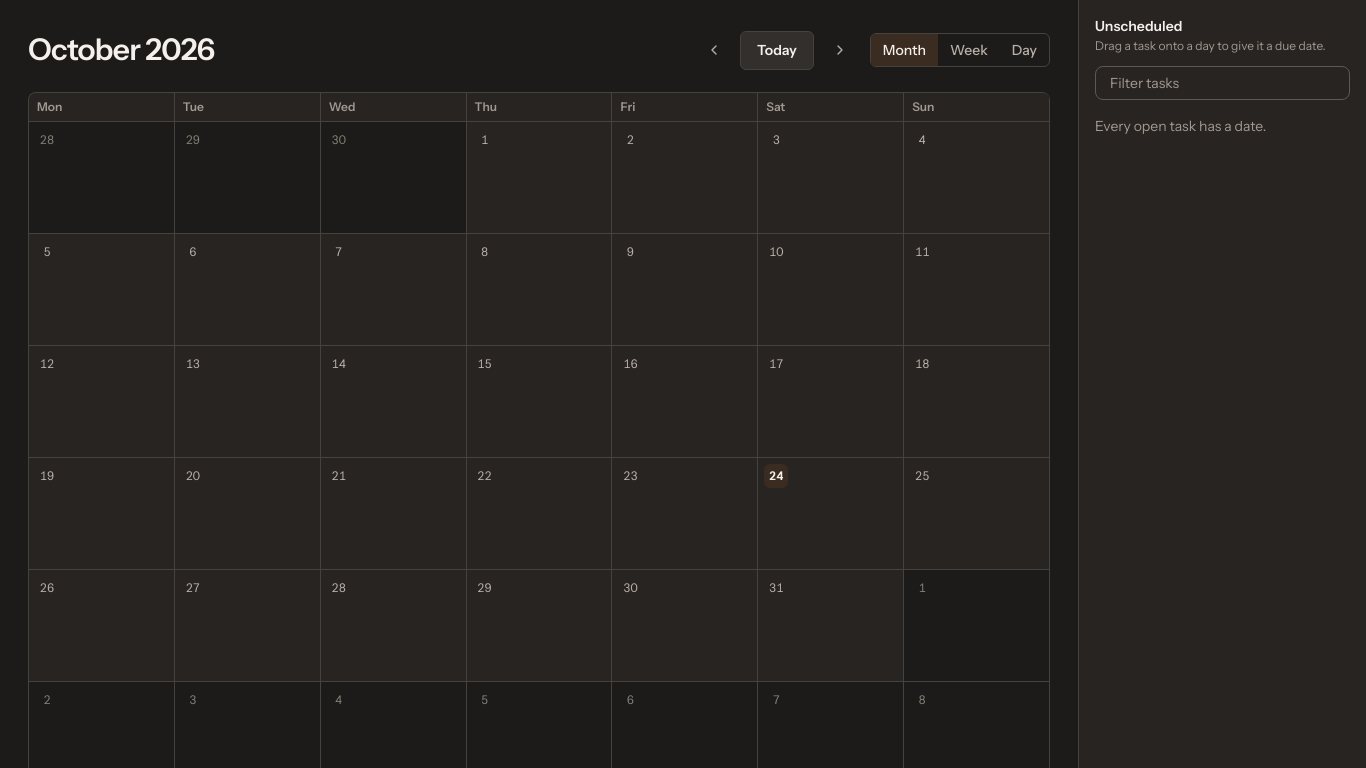
Test: CalendarView: month › crosses the year
Check: the heading "October 2026" is shown, box top-left (28, 32), bottom-right (214, 68)
Click the button named "Next month" at (840, 50), box top-left (818, 28), bottom-right (862, 72)
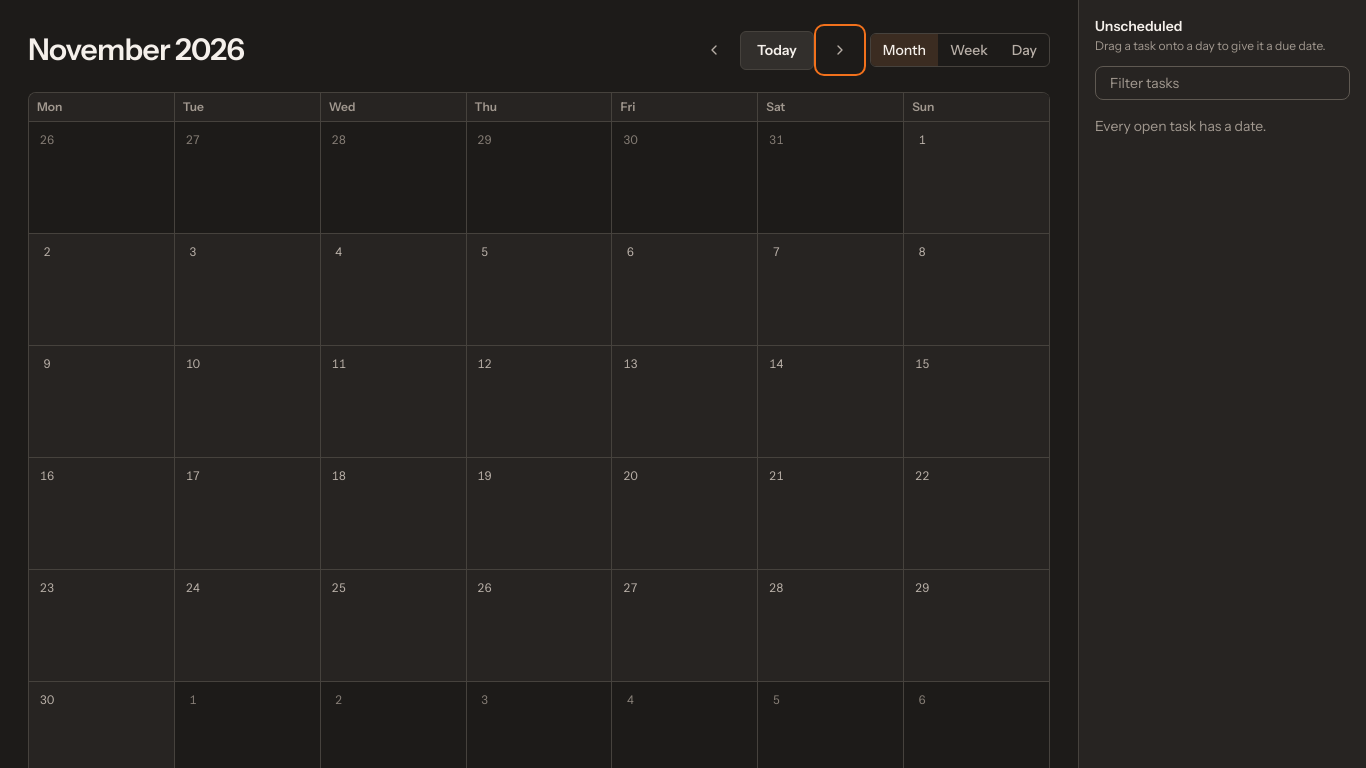
Click the button named "Next month" at (840, 50), box top-left (818, 28), bottom-right (862, 72)
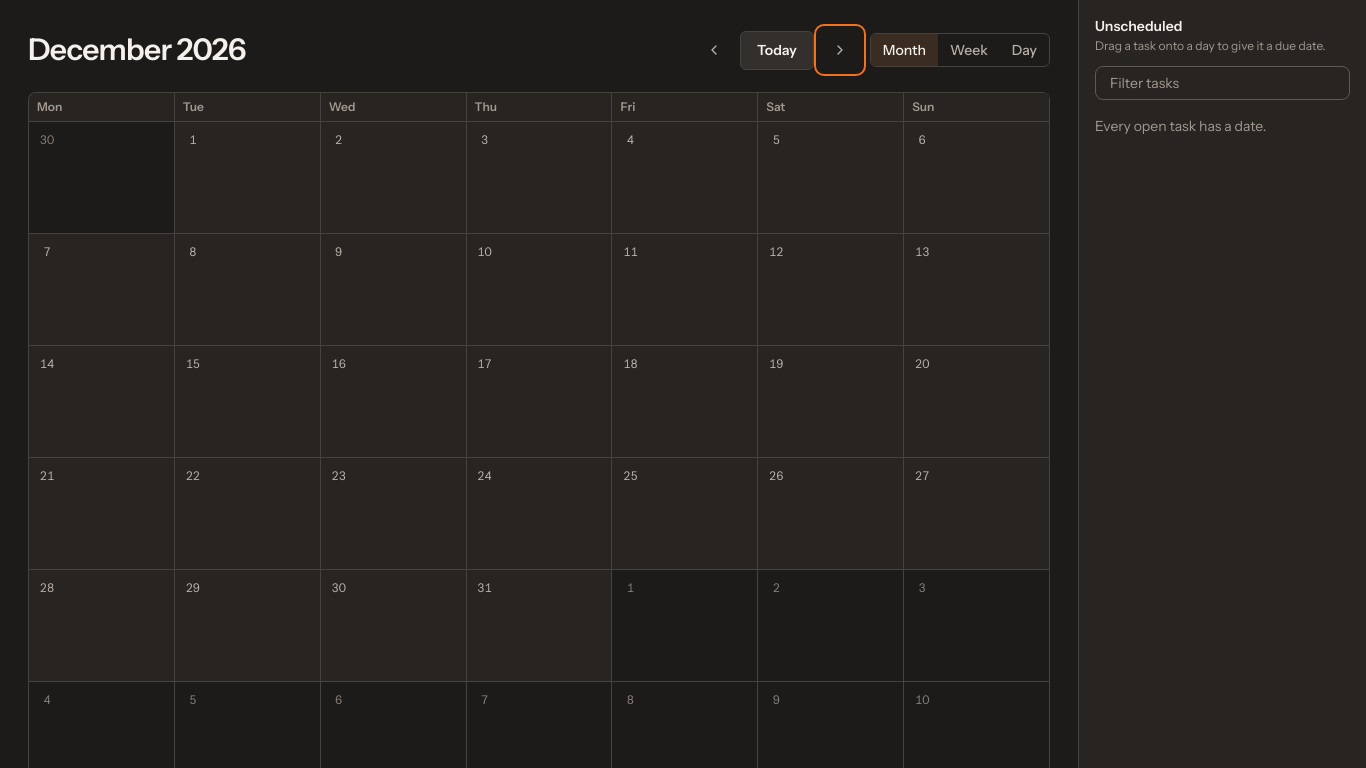
Check: the heading "December 2026" is shown, box top-left (28, 32), bottom-right (246, 68)
Click the button named "Next month" at (840, 50), box top-left (818, 28), bottom-right (862, 72)
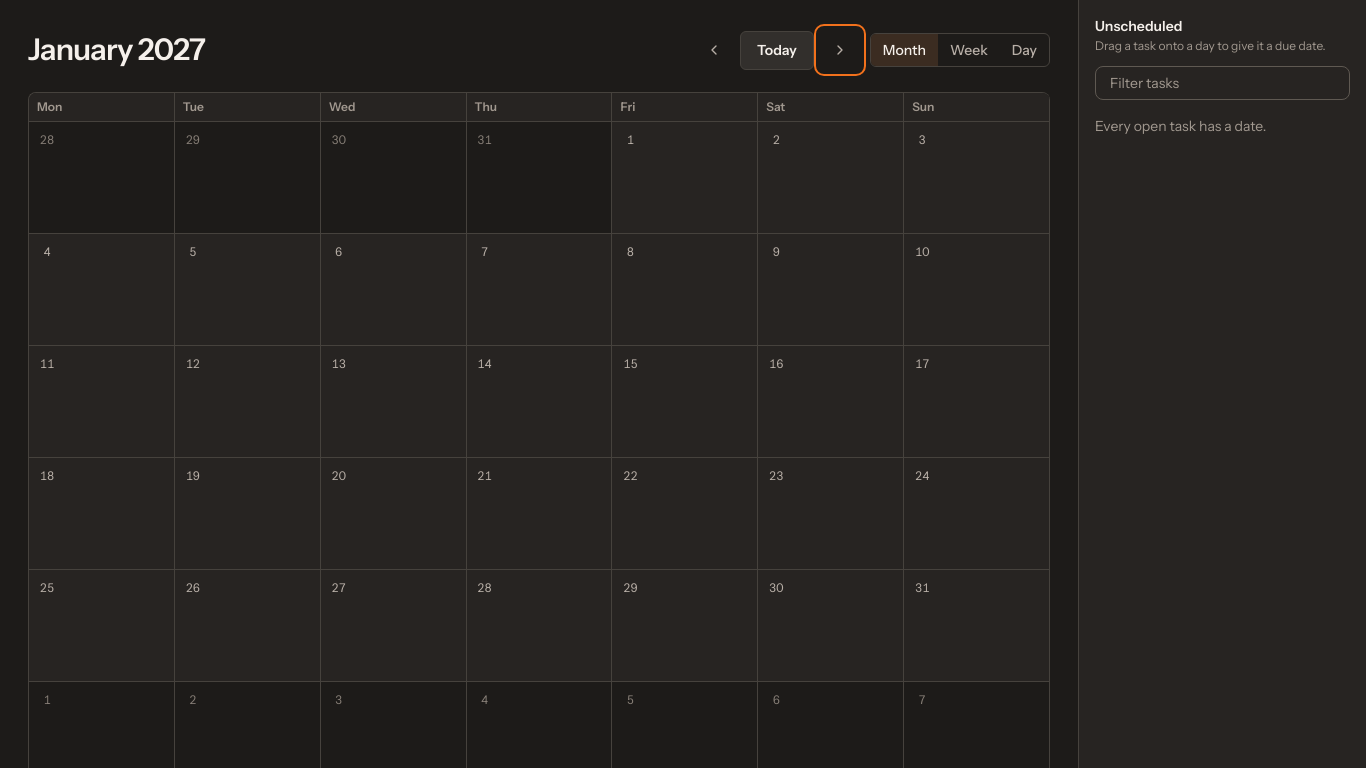
Check: the heading "January 2027" is shown, box top-left (28, 32), bottom-right (205, 68)
